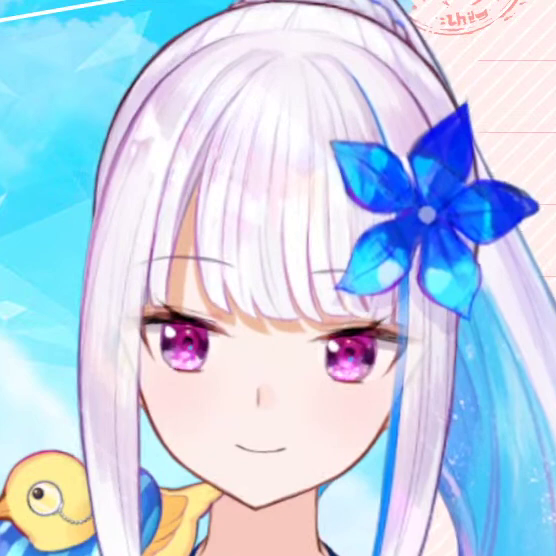liver: (131, 295, 234, 391)
